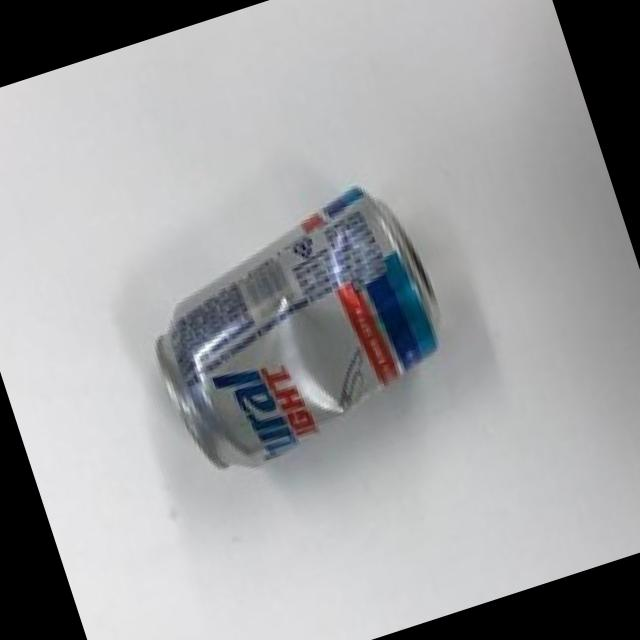Kaleng: (123, 169, 469, 486)
